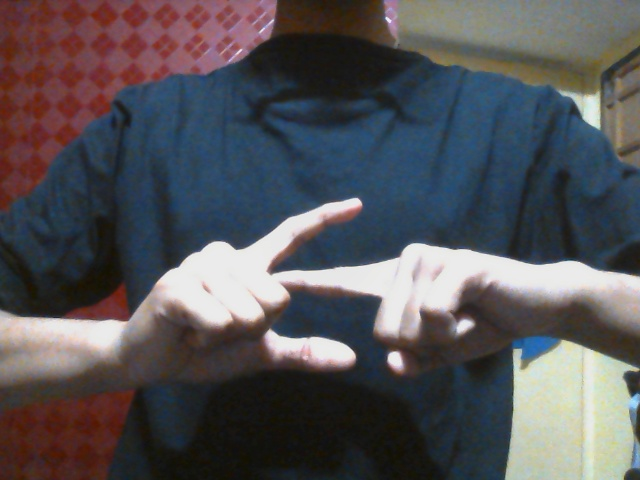E: (148, 196, 499, 383)
